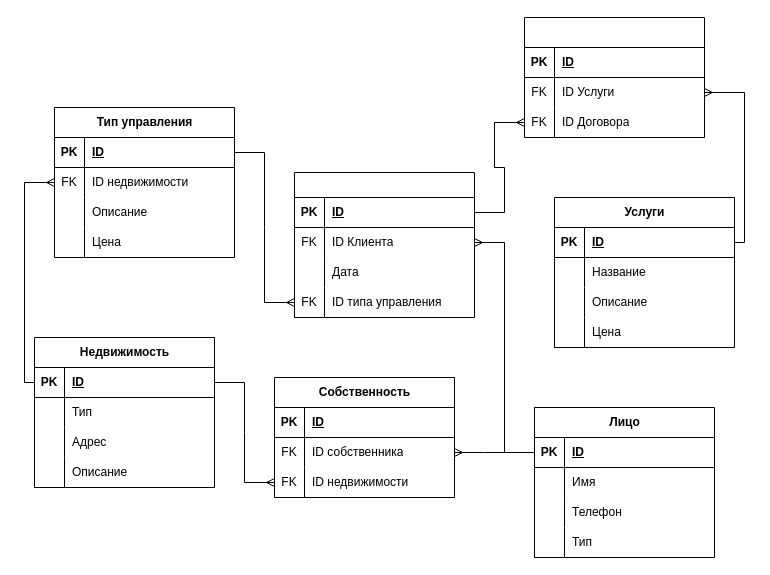
The diagram is 770 pixels wide and 575 high, and some of its shapes have lost their labels. The shapes that lost their labels are listed below. From the top down, each one's box as (x1, y1, x2, y2) in pixels, then its label:
(524, 16, 704, 138): Услуги в договоре
(294, 172, 474, 318): Договор
